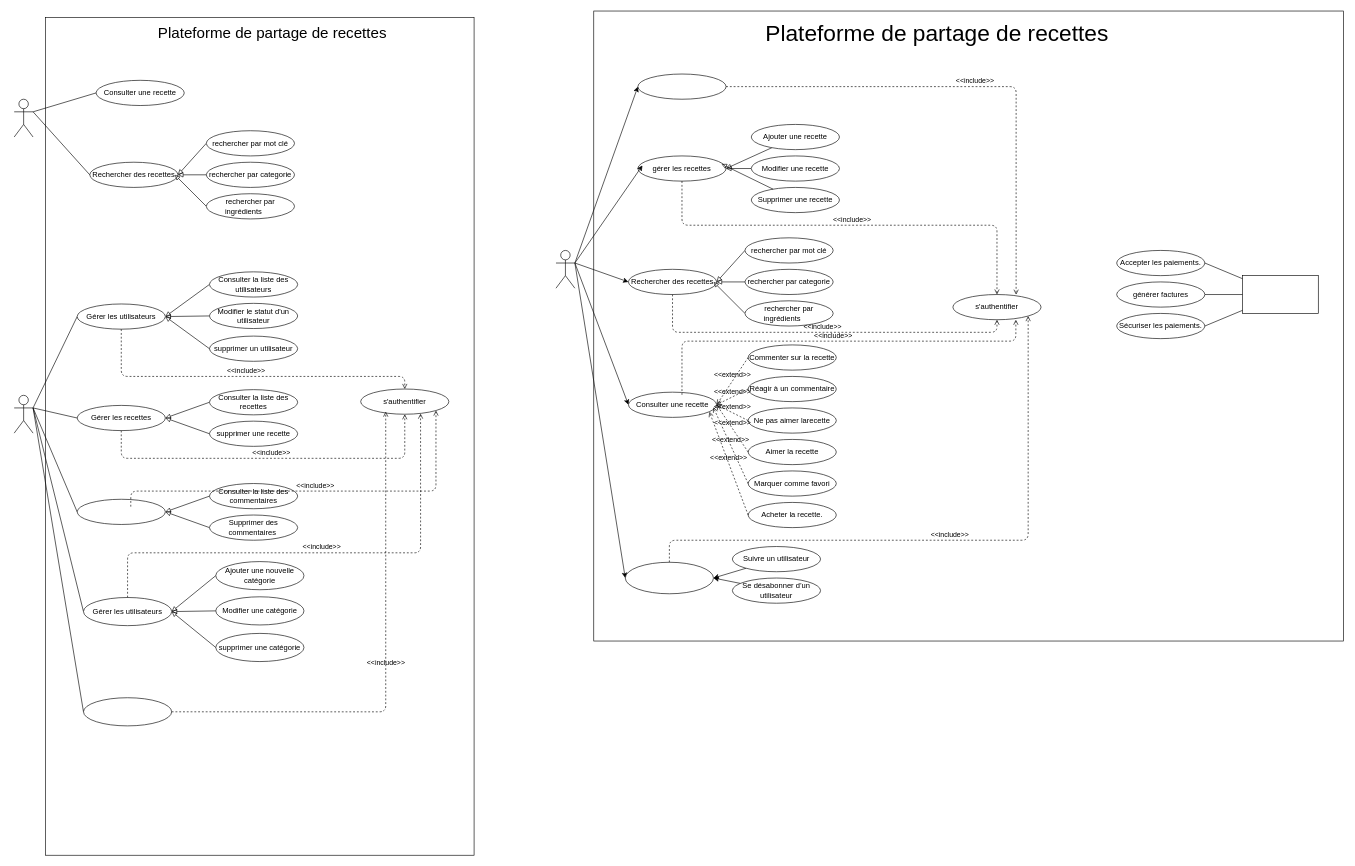
The diagram is 1355 pixels wide and 866 high, and some of its shapes have lost their labels. Here are the shapes that lost their labels. From the top down, the centre of each, then its label:
At pixel 681 86: "modifier le profile".
At pixel 23 118: "Visiteur".
At pixel 565 269: "Utilisateur".
At pixel 1280 294: "Système de paiement .".
At pixel 23 414: "ADMIN".
At pixel 121 511: "Gérer les commentaires".
At pixel 669 578: "interagir avec profile".
At pixel 127 711: "Consulter les statistiques".
